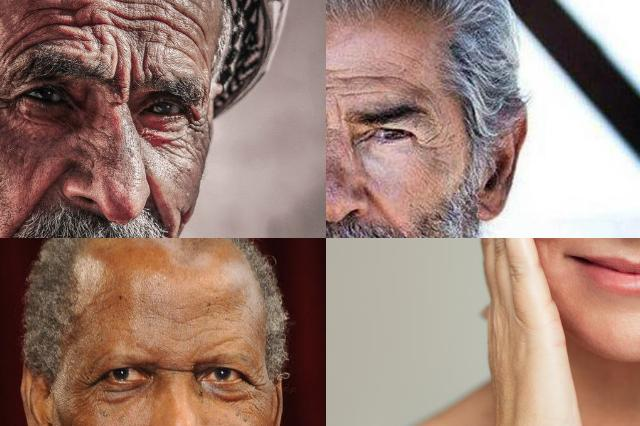bunny_line: (75, 132, 101, 159)
crows_feet: (74, 374, 98, 406), (416, 130, 446, 152), (250, 373, 266, 413), (0, 90, 17, 124), (188, 114, 210, 140)
forehead: (343, 68, 412, 98), (164, 1, 202, 47), (112, 4, 152, 38), (5, 25, 43, 59), (58, 16, 98, 41), (50, 0, 93, 10)
frown_line: (113, 50, 145, 92), (156, 359, 194, 378), (332, 100, 348, 130)
gummy_smile: (25, 170, 57, 210), (365, 188, 391, 224)
sad_smile: (0, 227, 19, 238)
